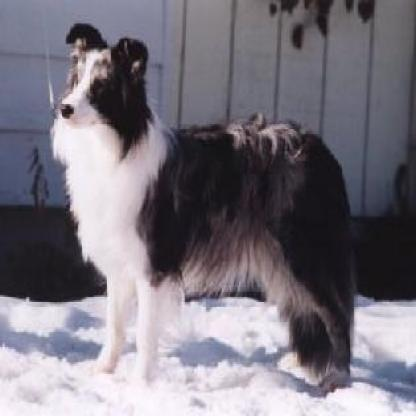Border_collie: (42, 15, 358, 394)
